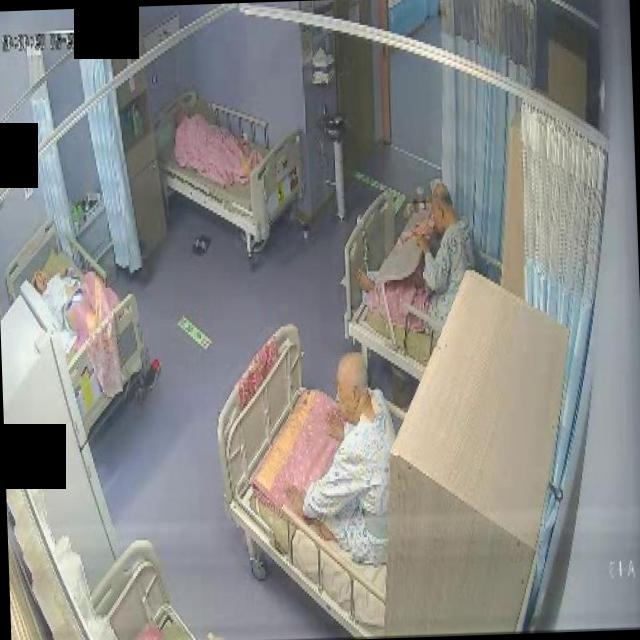bed: (212, 322, 397, 640), (0, 212, 150, 440), (340, 190, 472, 386), (159, 84, 305, 244)
lie: (30, 259, 116, 347)
patient: (278, 348, 397, 570), (353, 186, 472, 332), (30, 263, 84, 342)
sit: (276, 347, 396, 570), (351, 182, 471, 330)
